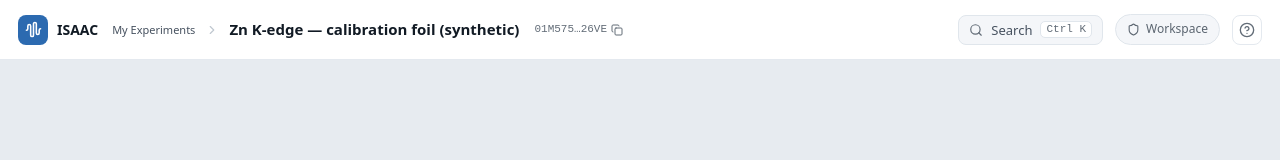
Scenario: record top bar · the id control copies the record id and nothing else › MUTATION-GUARDED — when copying fails, the full id is revealed as text, not left in a tooltip
Click the button "01M575…26VE" at (579, 30), box x1=529 y1=19 x2=628 y2=40
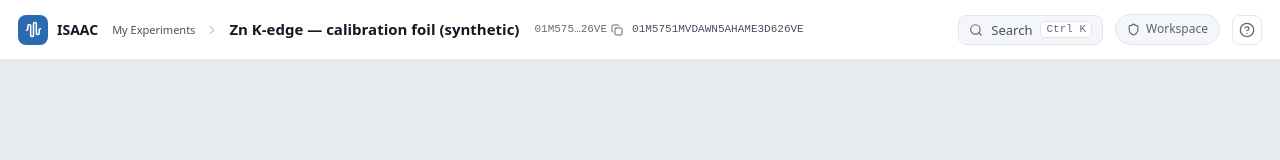
Now the text with class "record-file-full" reads "01M5751MVDAWN5AHAME3D626VE", box x1=632 y1=23 x2=804 y2=35
